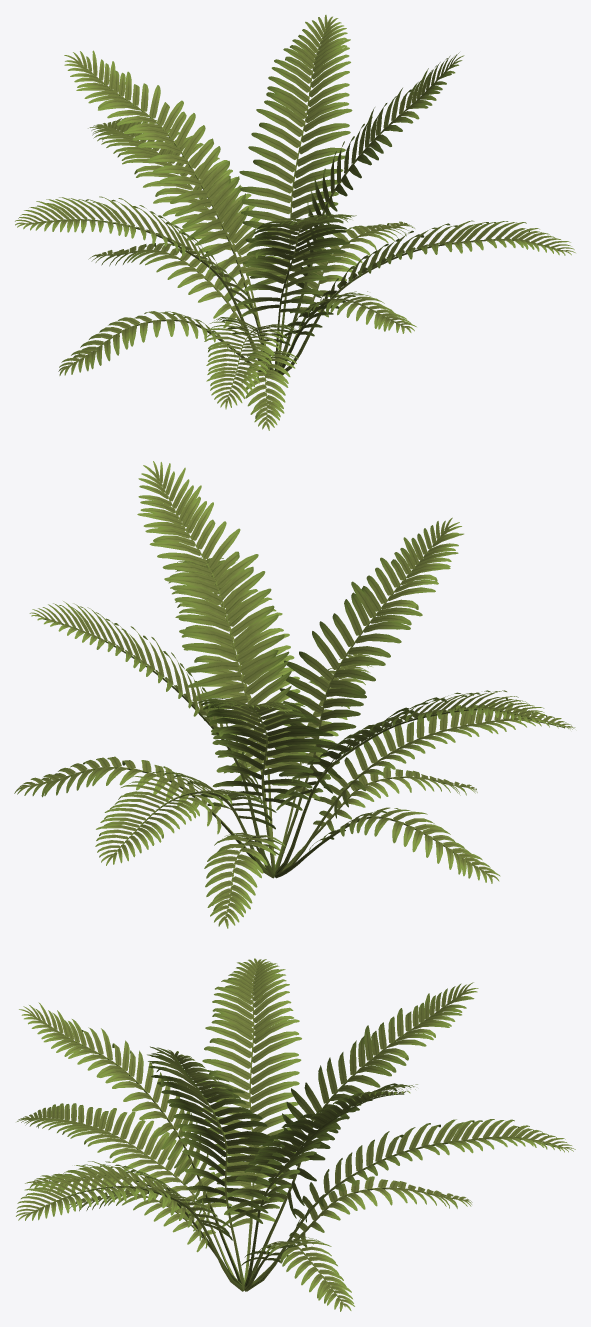
Rendered from palmeira2.fbx.
The picture shows the model from 3 angles, top to bottom: view 1: azimuth 30°, elevation 25°; view 2: azimuth 150°, elevation 25°; view 3: azimuth 270°, elevation 25°; orthographic projection. The views are drawn at different scales.
Parts seen in each view (by area): view 1: MH_Fern01_02_Shape; view 2: MH_Fern01_02_Shape; view 3: MH_Fern01_02_Shape.
Part boxes in pixels (x1,y1,x2,y2): MH_Fern01_02_Shape: (15, 15, 575, 430); MH_Fern01_02_Shape: (14, 461, 575, 928); MH_Fern01_02_Shape: (16, 958, 575, 1311).
Bounding box in the file's own units: 75.39 × 50.88 × 82.33.
2 materials, 2 textured.
